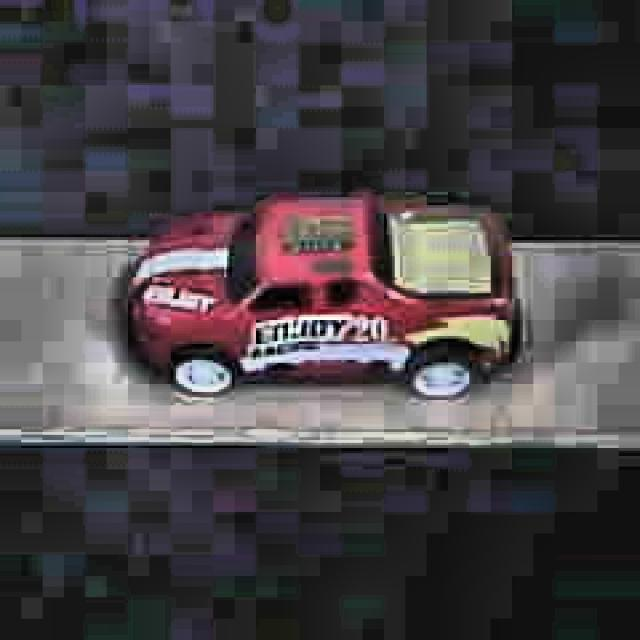car: (120, 190, 519, 401)
